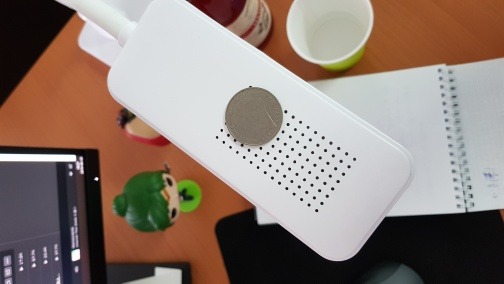coin: (224, 86, 283, 147)
